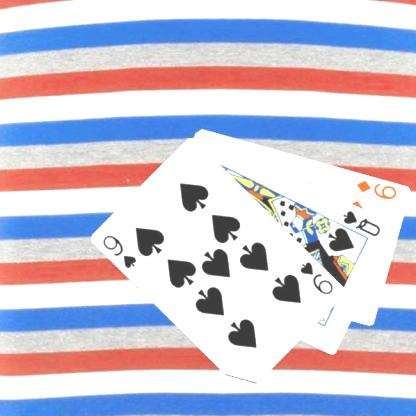9D: (354, 177, 399, 201)
9S: (100, 232, 139, 270), (297, 258, 335, 296)
QS: (340, 207, 382, 238)
